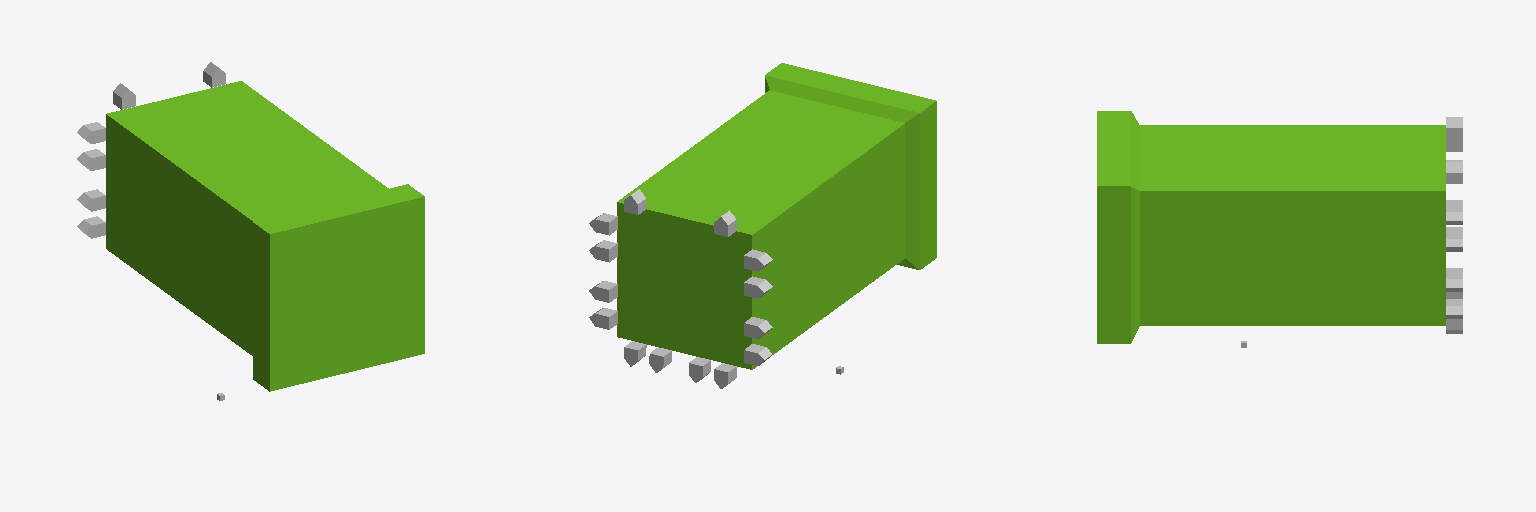
The model's file is spacebase_detail_withTexture.obj.
3 renders of one model, left to right at view 1: azimuth 30°, elevation 25°; view 2: azimuth 150°, elevation 25°; view 3: azimuth 270°, elevation 25°, orthographic.
Visible parts, largest first — view 1: SatelliteBase_v2; view 2: SatelliteBase_v2; view 3: SatelliteBase_v2.
Part boxes in pixels (x1,y1,x2,y2): SatelliteBase_v2: (77,62,424,391); SatelliteBase_v2: (589,63,936,388); SatelliteBase_v2: (1097,111,1462,343).
Size of the model in its own units: 69.2 by 88.21 by 125.